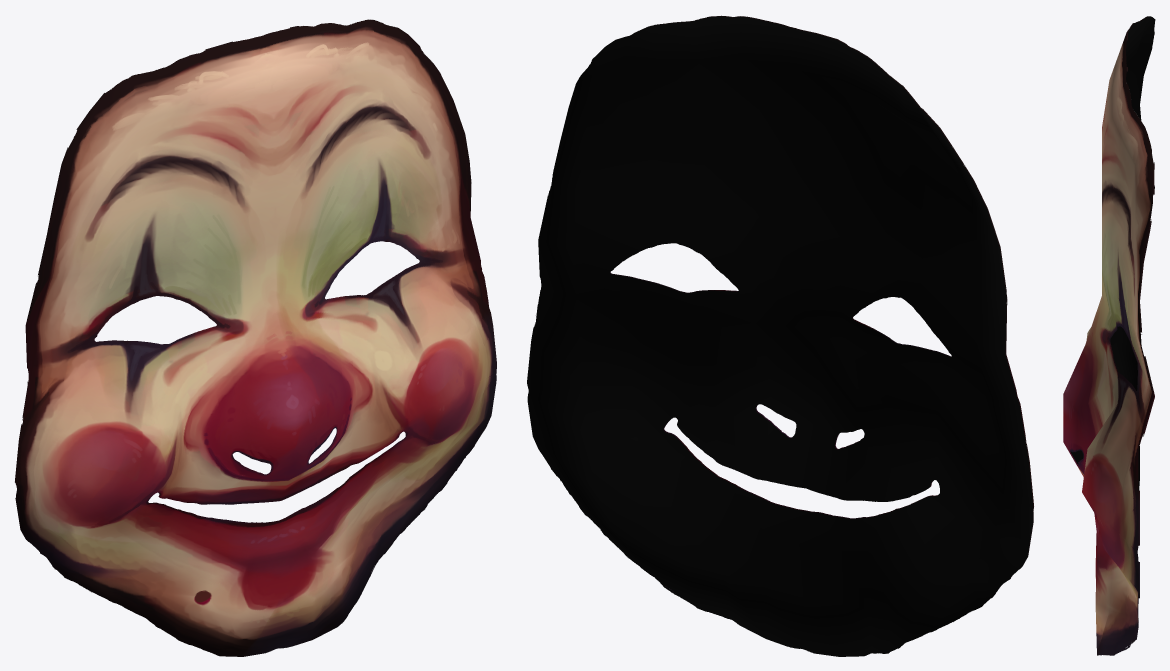
The model's file is ClownMask.fbx.
The picture shows the model from 3 angles, left to right: view 1: azimuth 30°, elevation 25°; view 2: azimuth 150°, elevation 25°; view 3: azimuth 270°, elevation 25°; orthographic projection. The views are drawn at different scales.
Visible parts, largest first — view 1: Mask3; view 2: Mask3; view 3: Mask3.
Boxes of the visible parts, <box> form: Mask3: <box>15,19,496,656</box>; Mask3: <box>527,15,1033,656</box>; Mask3: <box>1063,16,1155,655</box>.
Size of the model in its own units: 3.82 by 4.59 by 0.6554.
Materials: 2 (1 with a texture image).
